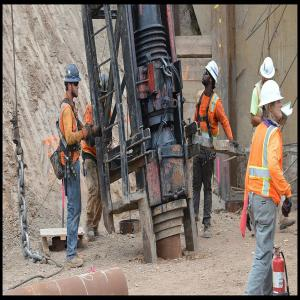blue: (65, 65, 82, 101), (97, 73, 110, 101)
white: (260, 79, 285, 122), (202, 59, 219, 90), (262, 58, 276, 85)
